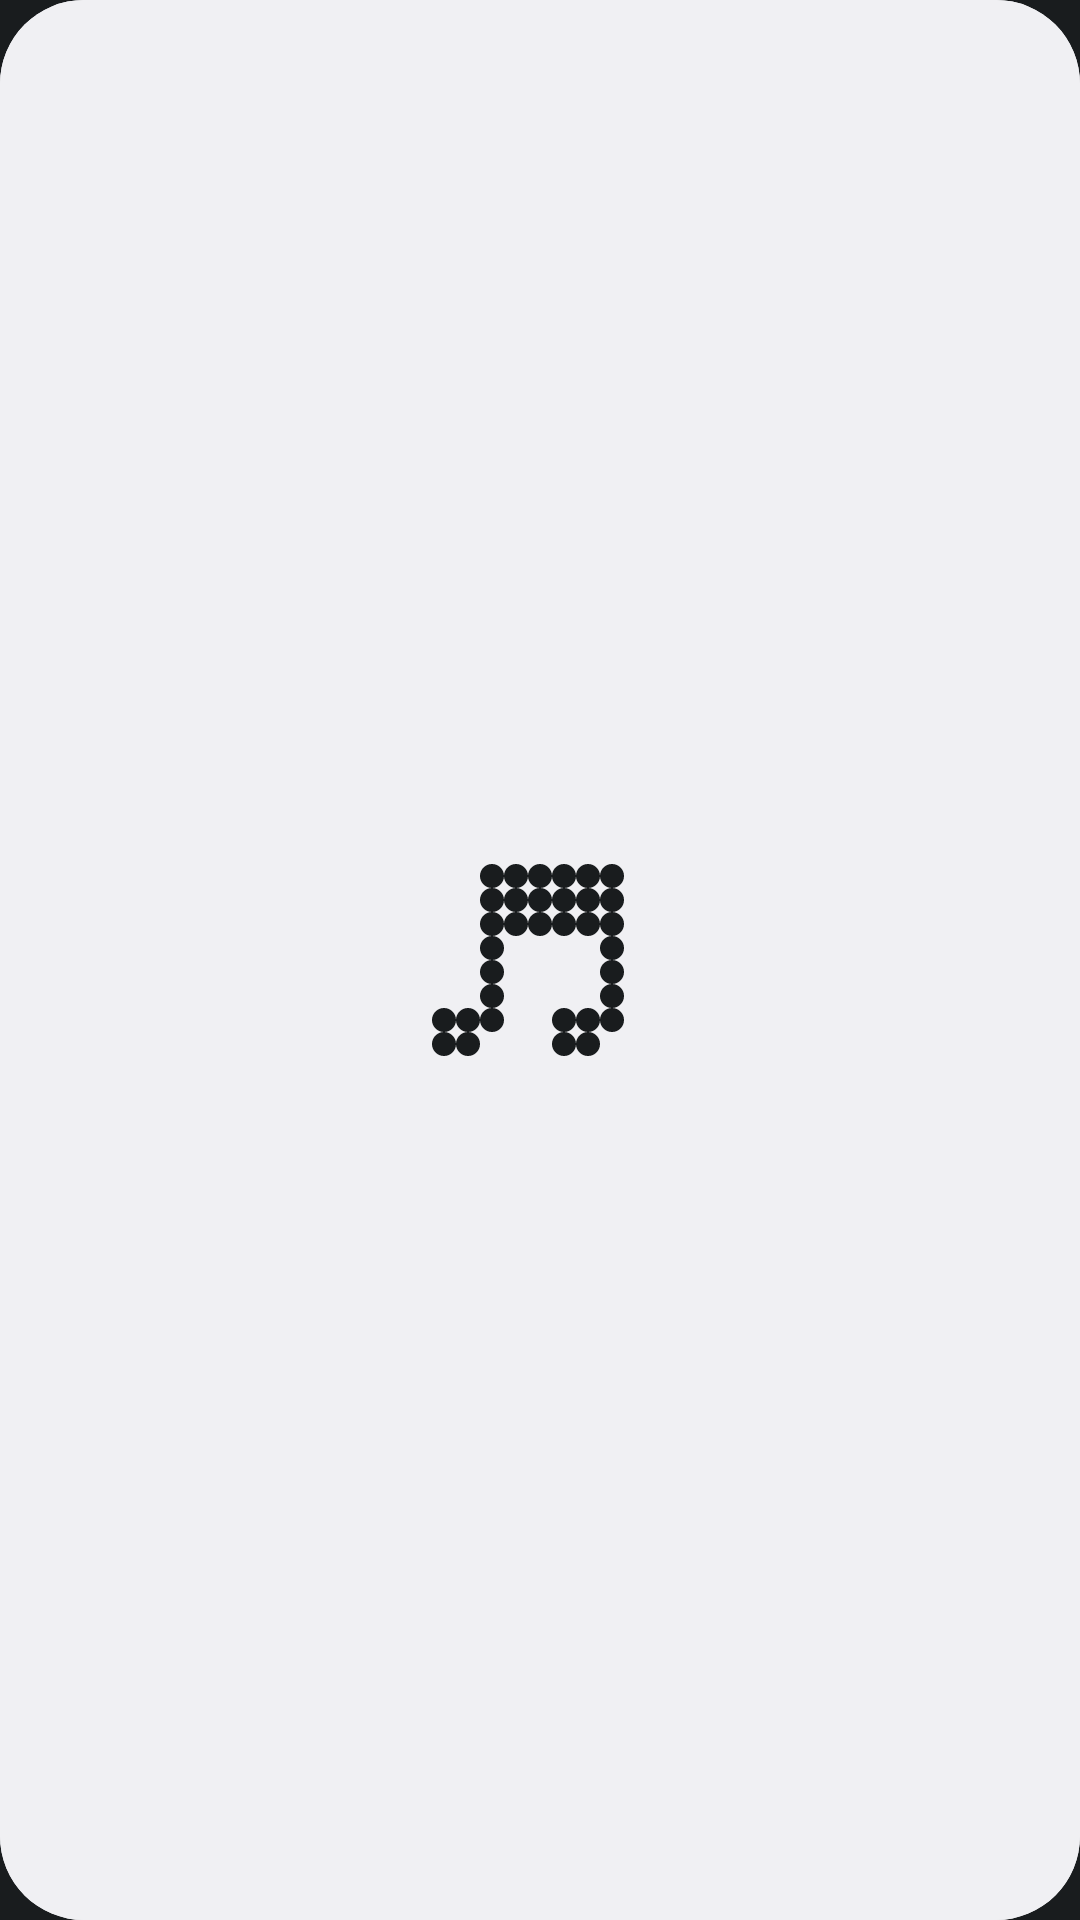

Icons on this 1080×1920 Android screen, each with the point to tap as point (x, y):
media: point (528, 960)
